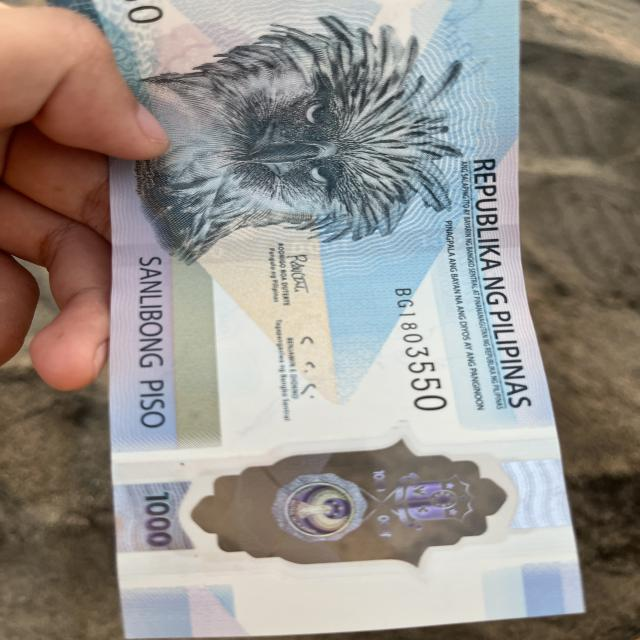clear_window: (102, 419, 596, 596)
eagle: (123, 1, 466, 252)
